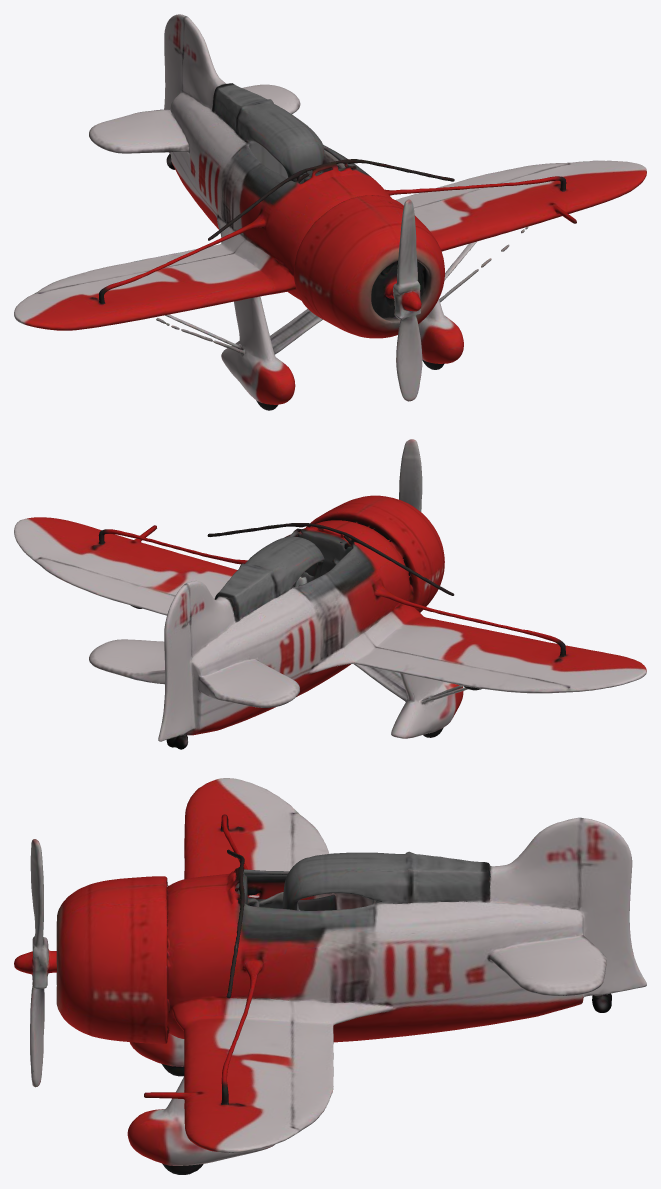
Rendered from biplane.glb.
3 renders of one model, top to bottom at view 1: azimuth 30°, elevation 25°; view 2: azimuth 150°, elevation 25°; view 3: azimuth 270°, elevation 25°, orthographic. The views are drawn at different scales.
Visible parts, largest first — view 1: geometry_0; view 2: geometry_0; view 3: geometry_0.
Part boxes in pixels (x1,y1,x2,y2): geometry_0: [14, 14, 646, 410]; geometry_0: [14, 439, 646, 749]; geometry_0: [14, 778, 646, 1174].
Bounding box in the file's own units: 1 × 0.3859 × 0.7213.
Materials: 1 (1 with a texture image).
